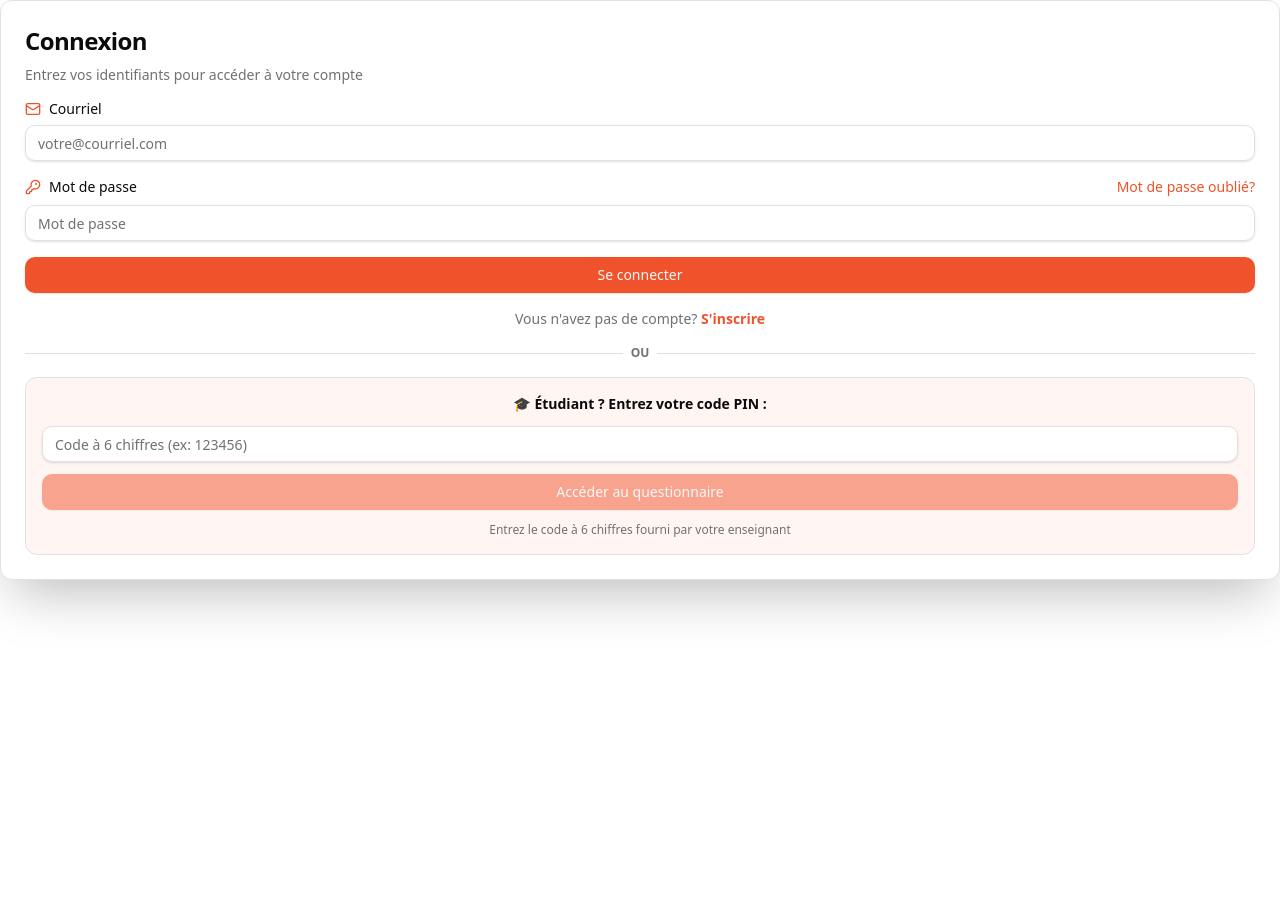
it: SignInCard › displays error for invalid survey code
Type "999999" into the field with placeholder "Code à 6 chiffres (ex: 123456)".
click(640, 444); type("999999")  # box x1=42 y1=426 x2=1238 y2=462
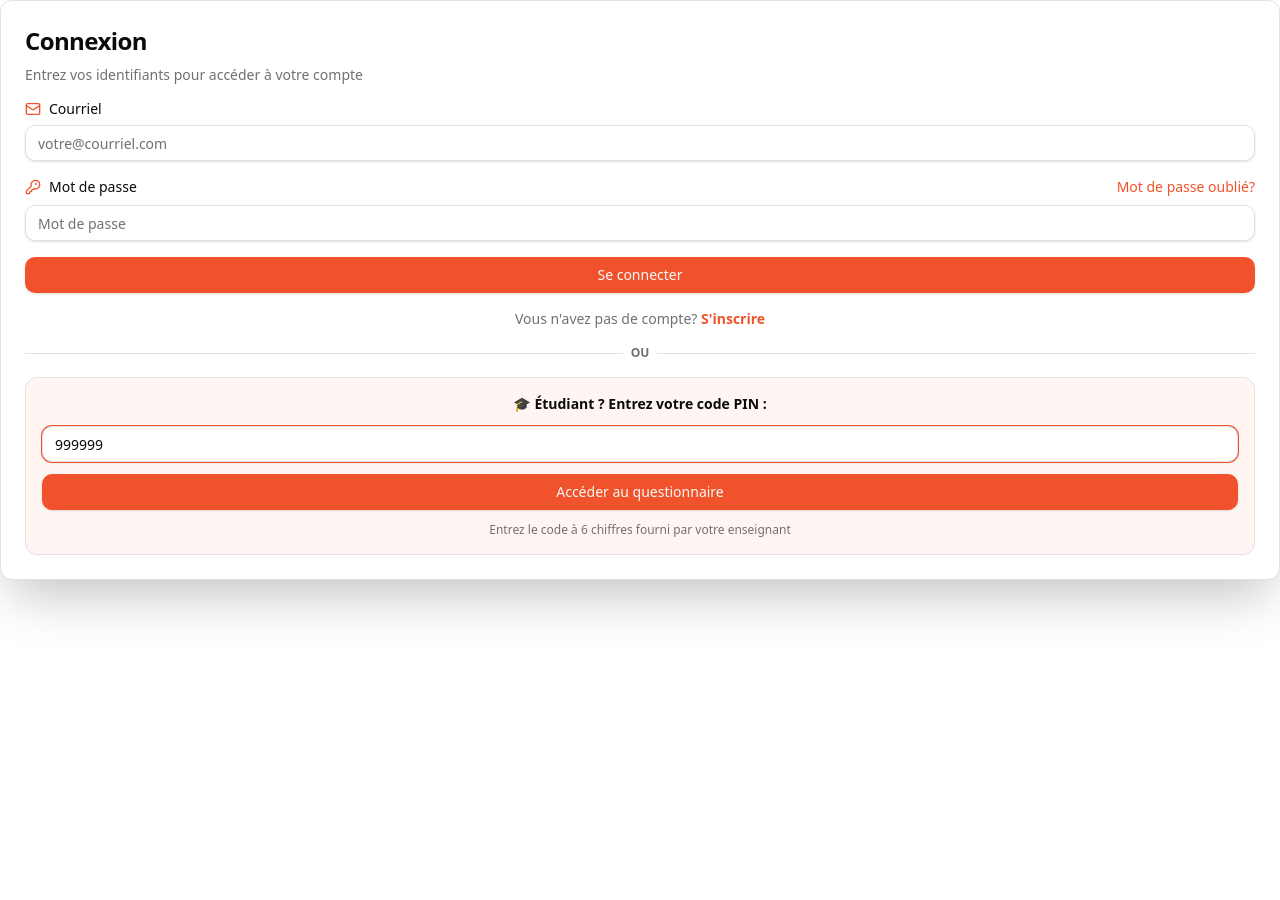
Click the button "Accéder au questionnaire".
click(640, 492)  # box x1=42 y1=474 x2=1238 y2=510
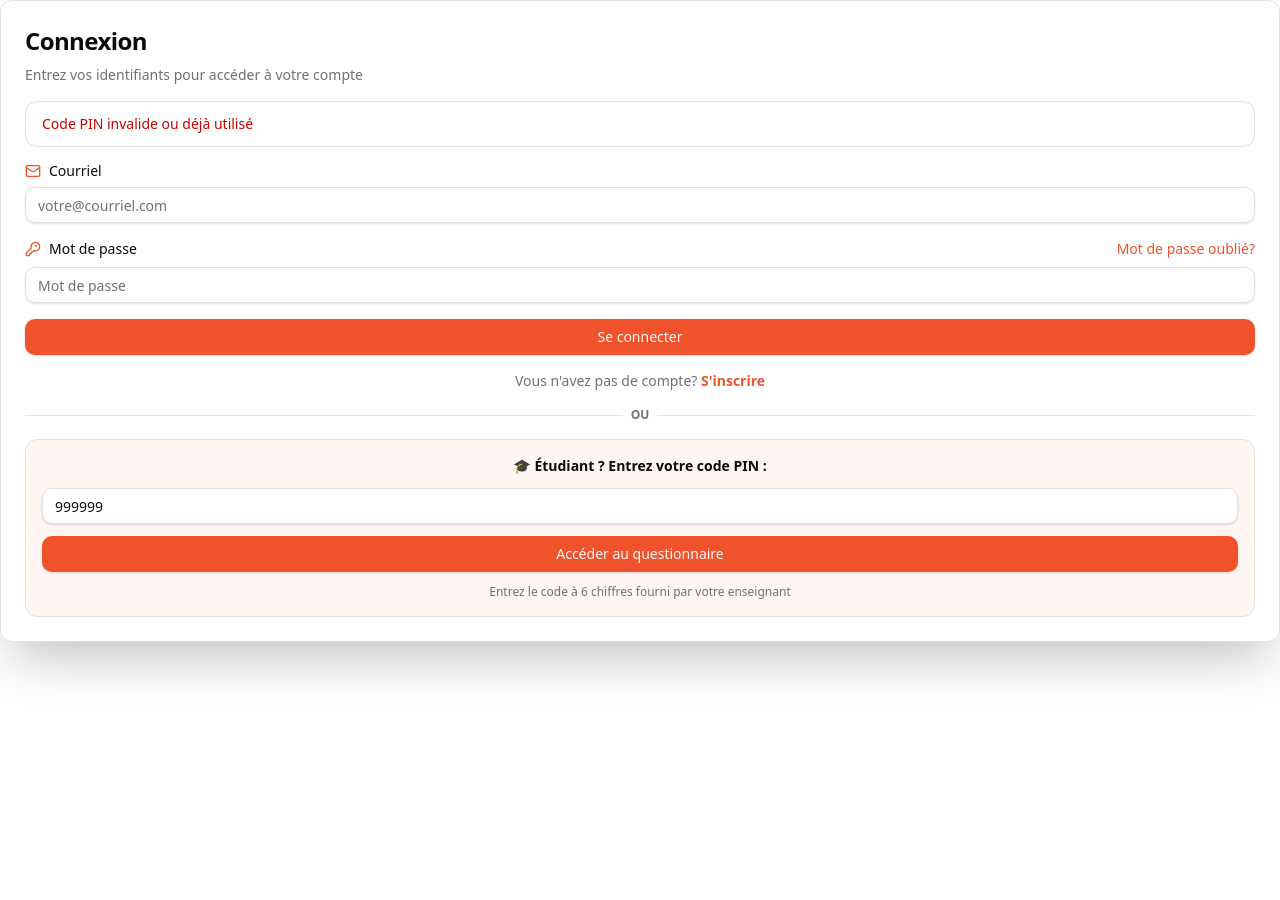
Expected: the text "Code PIN invalide ou déjà utilisé" is shown, x1=42 y1=114 x2=253 y2=133
